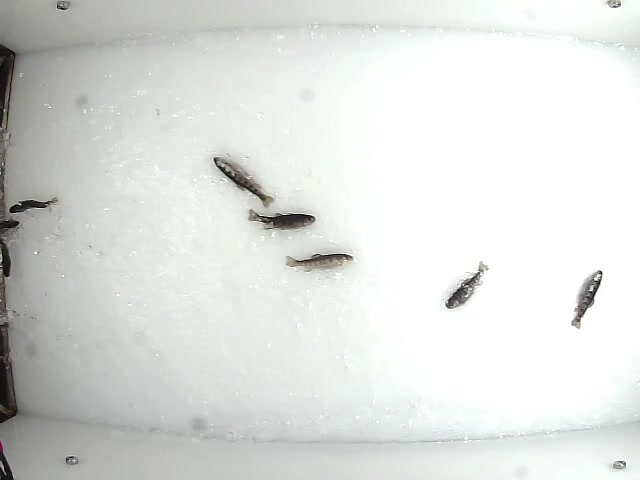fish: (213, 155, 276, 208), (444, 260, 492, 310), (567, 269, 603, 331), (284, 250, 358, 275), (244, 206, 318, 230), (5, 195, 61, 214)
